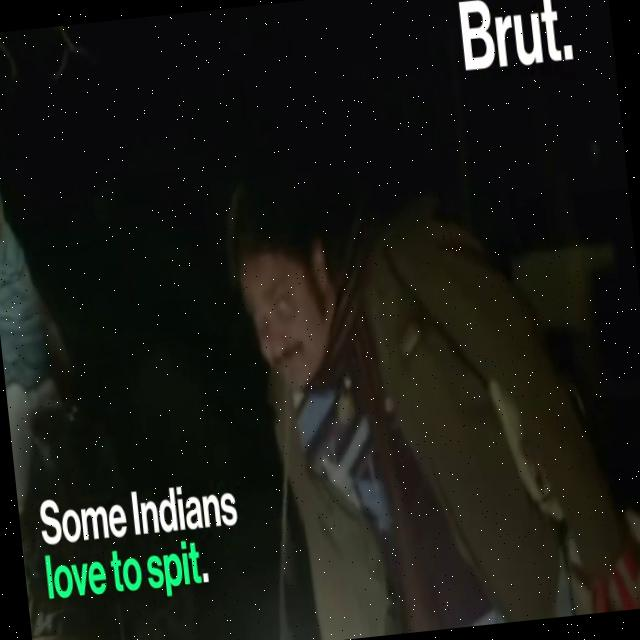spit: (250, 343, 317, 640)
